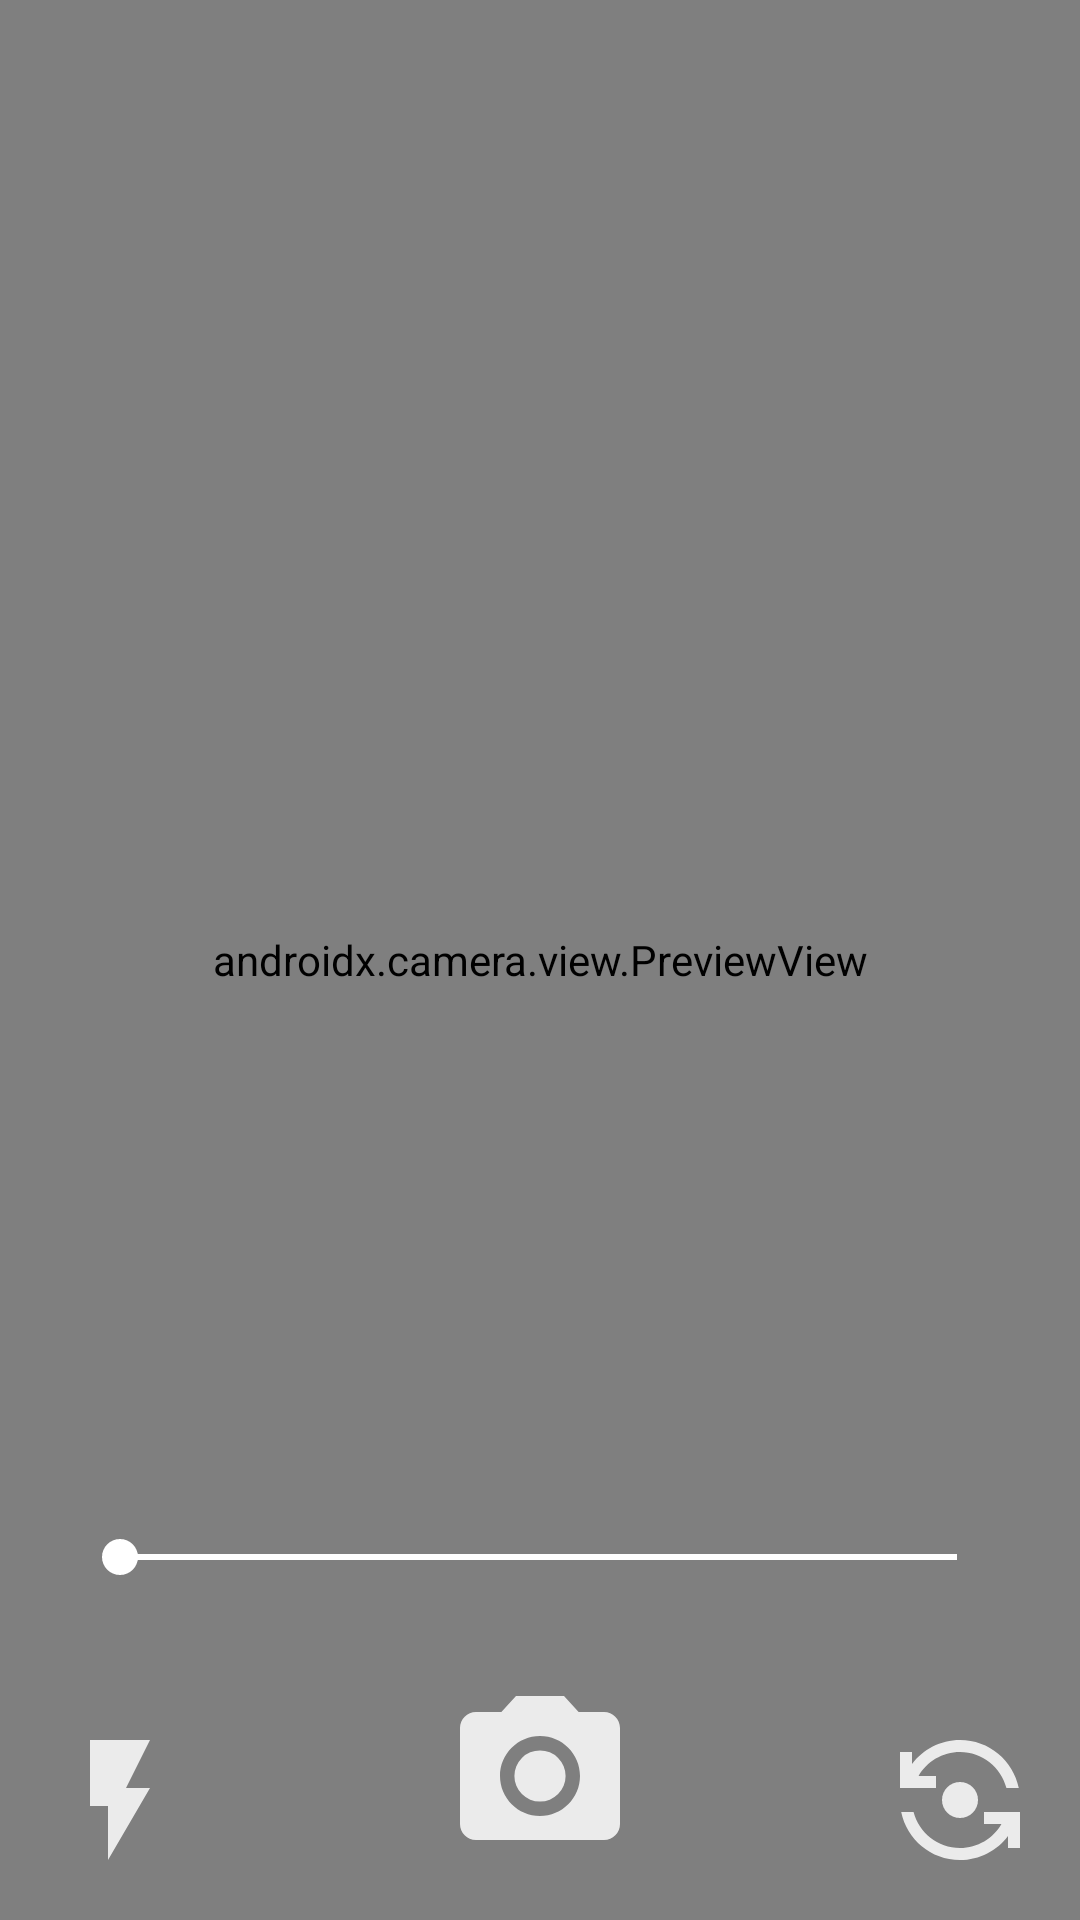

Named icons in this screenshot (1080 × 1920) and their centers, point (x, y):
flash on: point (120, 1800)
flip camera android: point (960, 1800)
